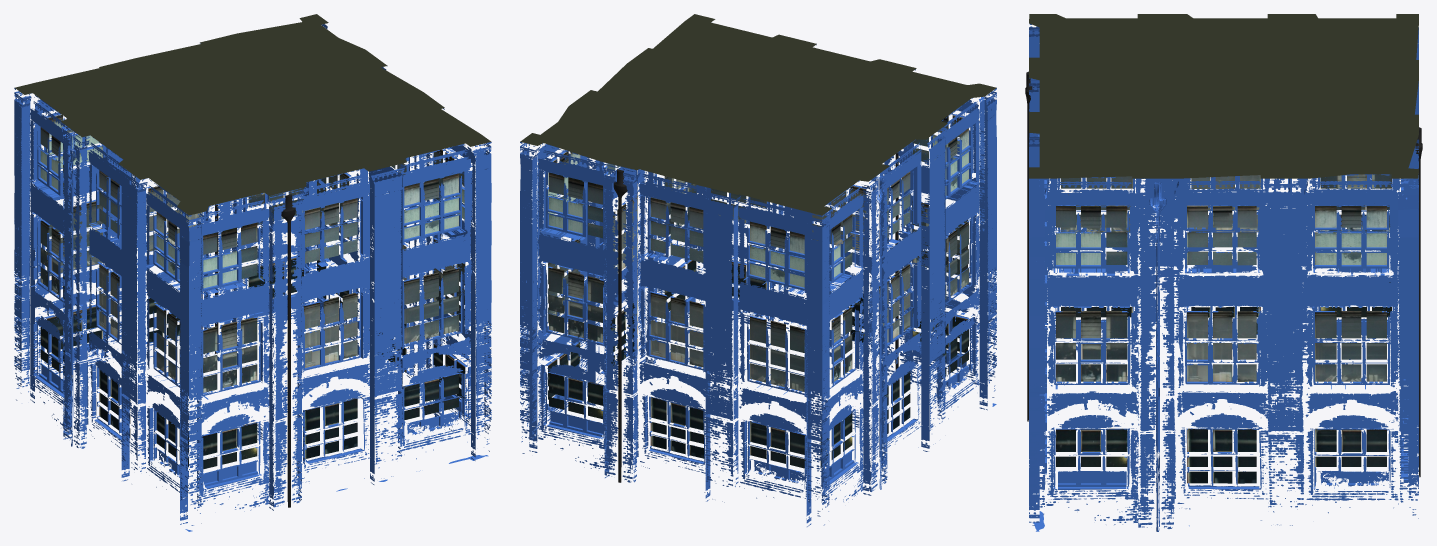
File: building2.fbx
3 views of the same model, side by side, from view 1: azimuth 30°, elevation 25°; view 2: azimuth 150°, elevation 25°; view 3: azimuth 270°, elevation 25° (orthographic). The views are drawn at different scales.
Visible parts, largest first — view 1: Cylinder.002; view 2: Cylinder.002; view 3: Cylinder.002.
Part boxes in pixels (box(x1,y1,x2,y2)): Cylinder.002: box(14, 14, 491, 531); Cylinder.002: box(520, 14, 996, 526); Cylinder.002: box(1025, 14, 1422, 531).
Size of the model in its own units: 1785 by 1751 by 1785.
Materials: 4 (1 with a texture image).
